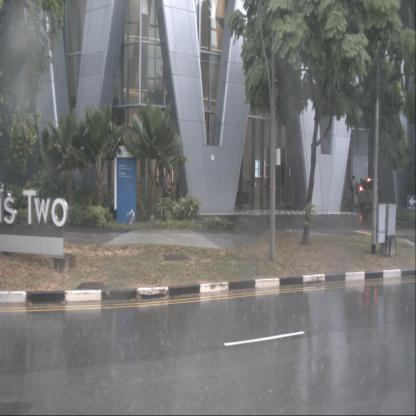human-pedestrian-adult: (350, 175, 356, 207), (359, 178, 364, 207)
vehicle-car: (360, 178, 388, 212)
